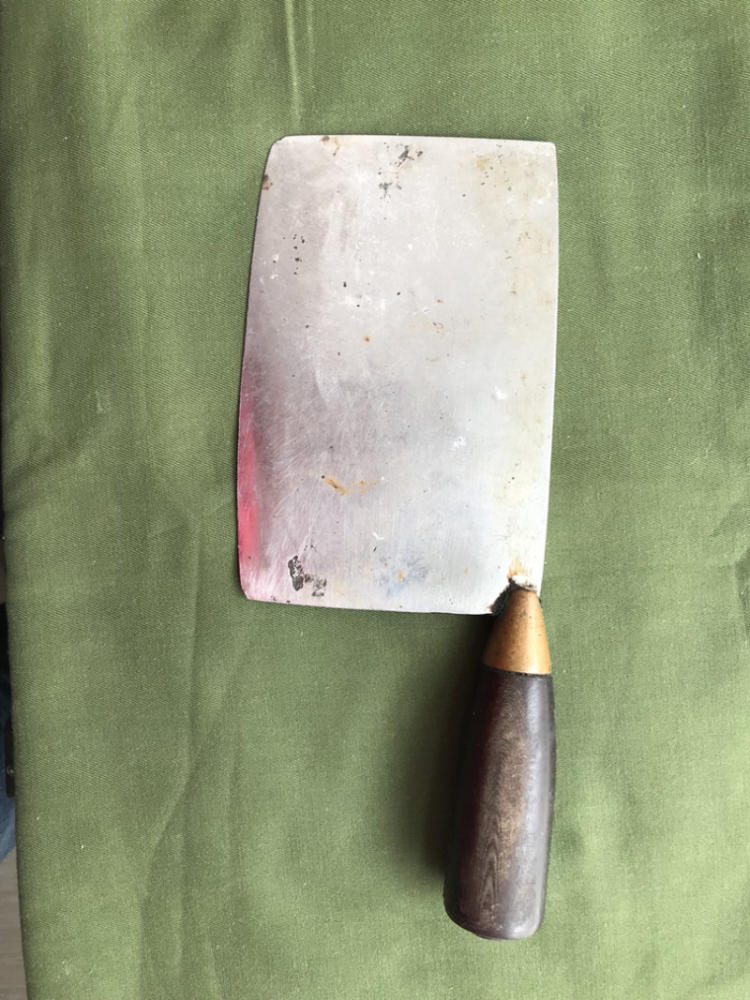knief: (160, 81, 648, 958)
